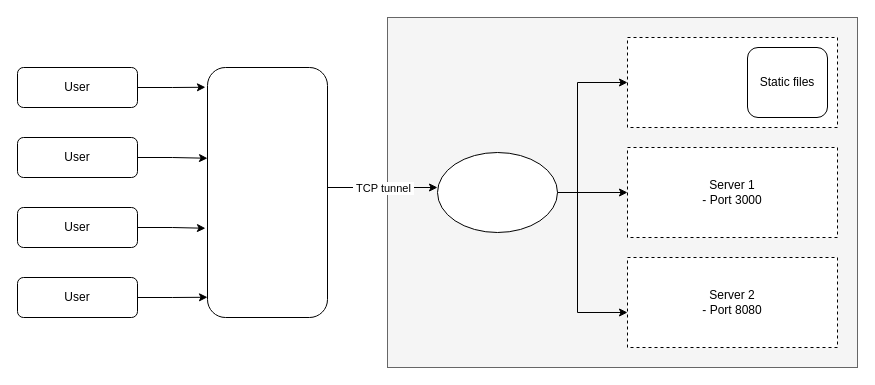
This 875x385 diagram has some shape labels left out. The shapes that lost their labels are listed below. From the top down, each one's box as (x1, y1, x2, y2) in pixels, then its label:
(626, 36, 838, 128): Conoid simple server - Port 30001
(206, 66, 328, 318): Localtunnel server
(436, 152, 558, 232): Conoid main server - Port 5000
